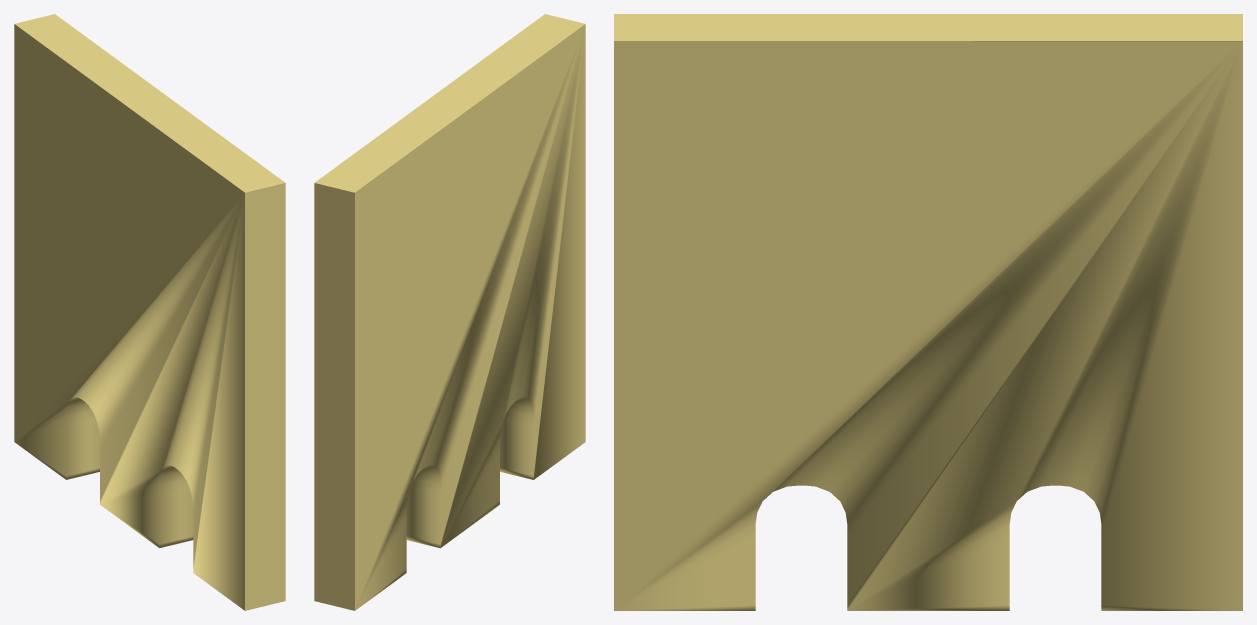
Rendered from 2wall.obj.
3 renders of one model, left to right at view 1: azimuth 30°, elevation 25°; view 2: azimuth 150°, elevation 25°; view 3: azimuth 270°, elevation 25°, orthographic. The views are drawn at different scales.
Parts seen in each view (by area): view 1: 无标题.005; view 2: 无标题.005; view 3: 无标题.005.
Boxes of the visible parts, x1,y1,x2,y2 form: 无标题.005: (14, 14, 285, 610); 无标题.005: (314, 14, 585, 610); 无标题.005: (614, 14, 1242, 610).
Bounding box in the file's own units: 0.1016 × 1 × 1.
